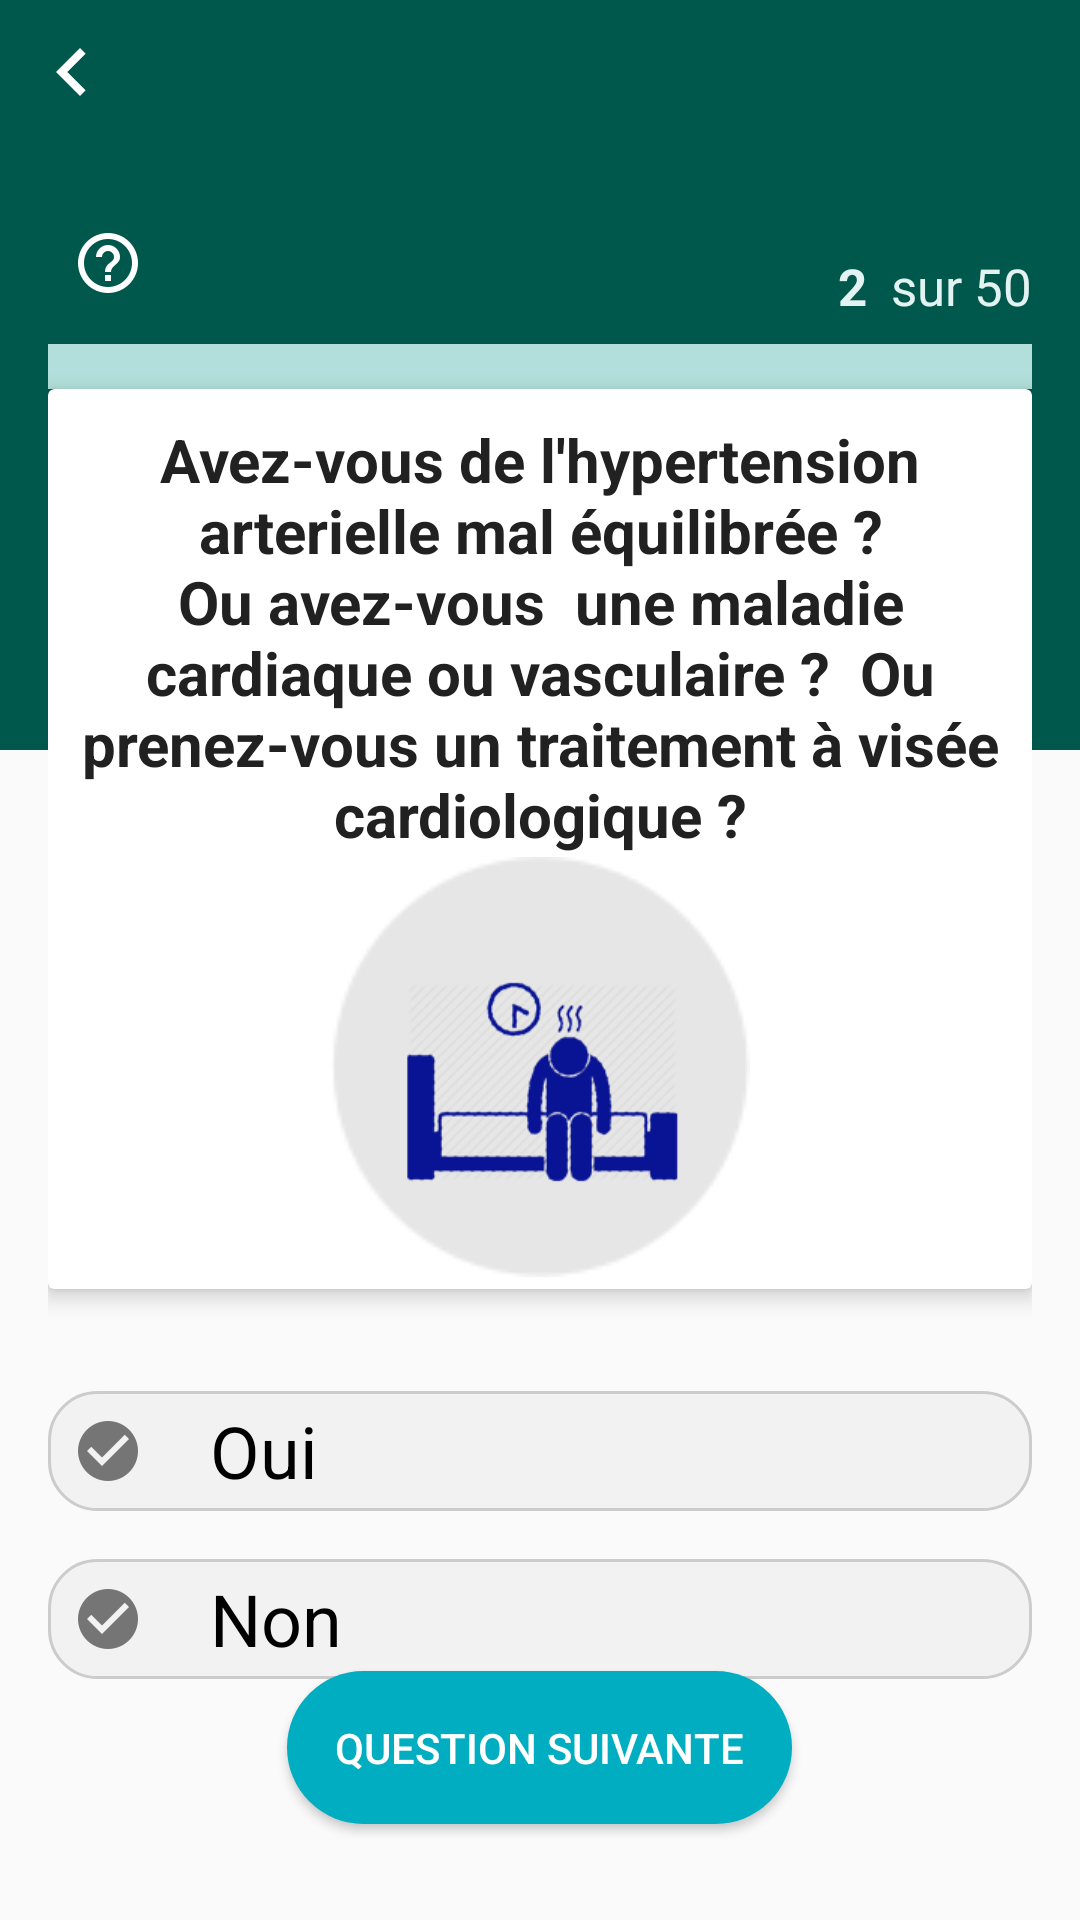

Point at icon controls on the screen. Image size 1080px×1920px, points as point (x, y).
chevron left: point (71, 72)
help: point (108, 263)
